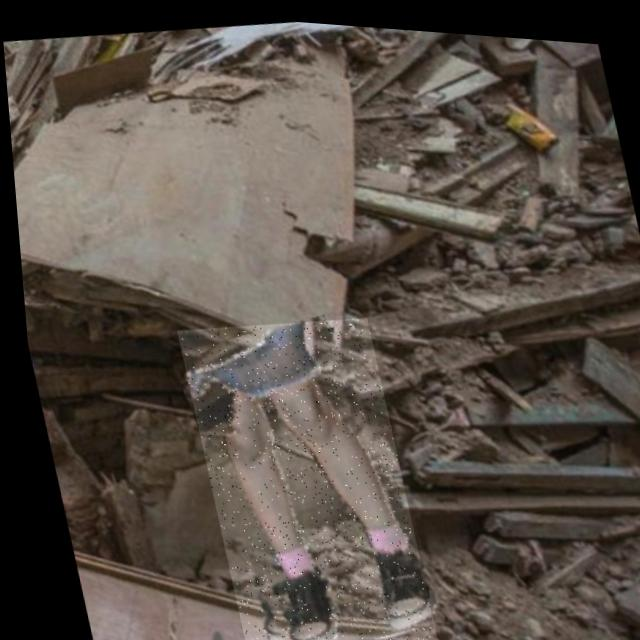Person in Rubble: (170, 302, 429, 640)
